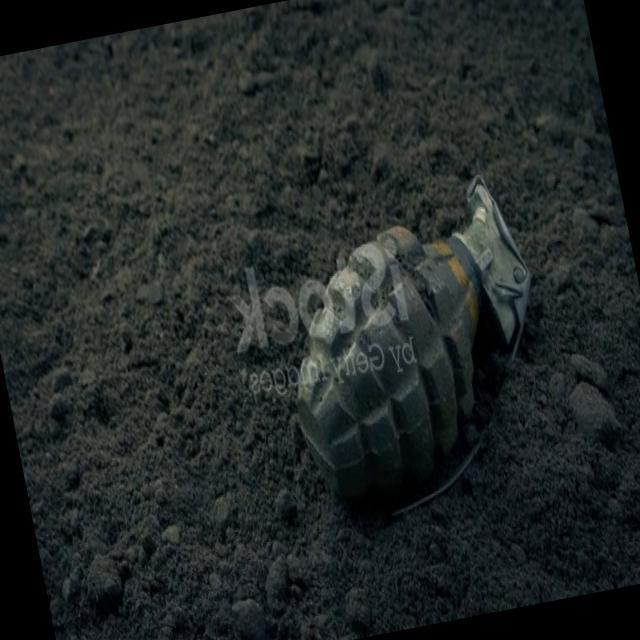grenade: (252, 162, 574, 544)
